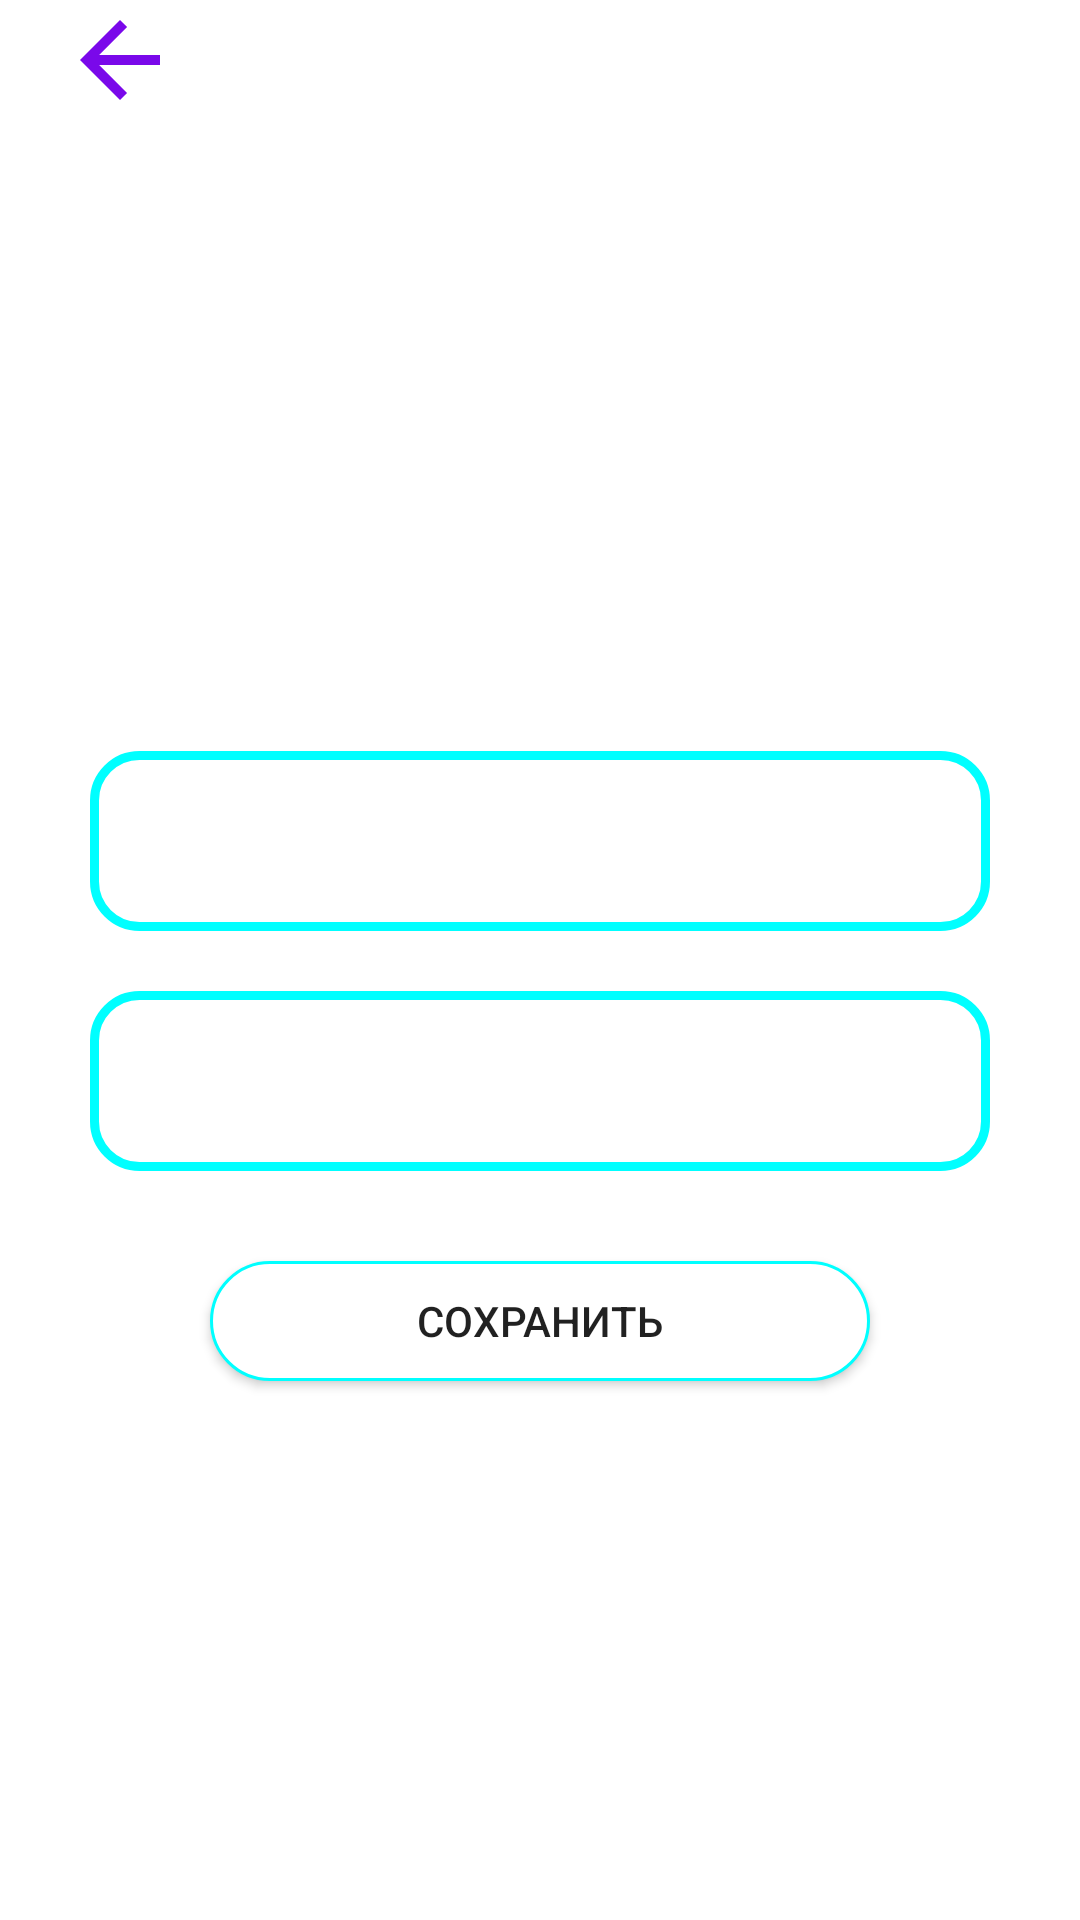

Screen size 1080px x 1920px. Icon name, then its center in pixels as [x,y]:
arrow back: [120,60]
